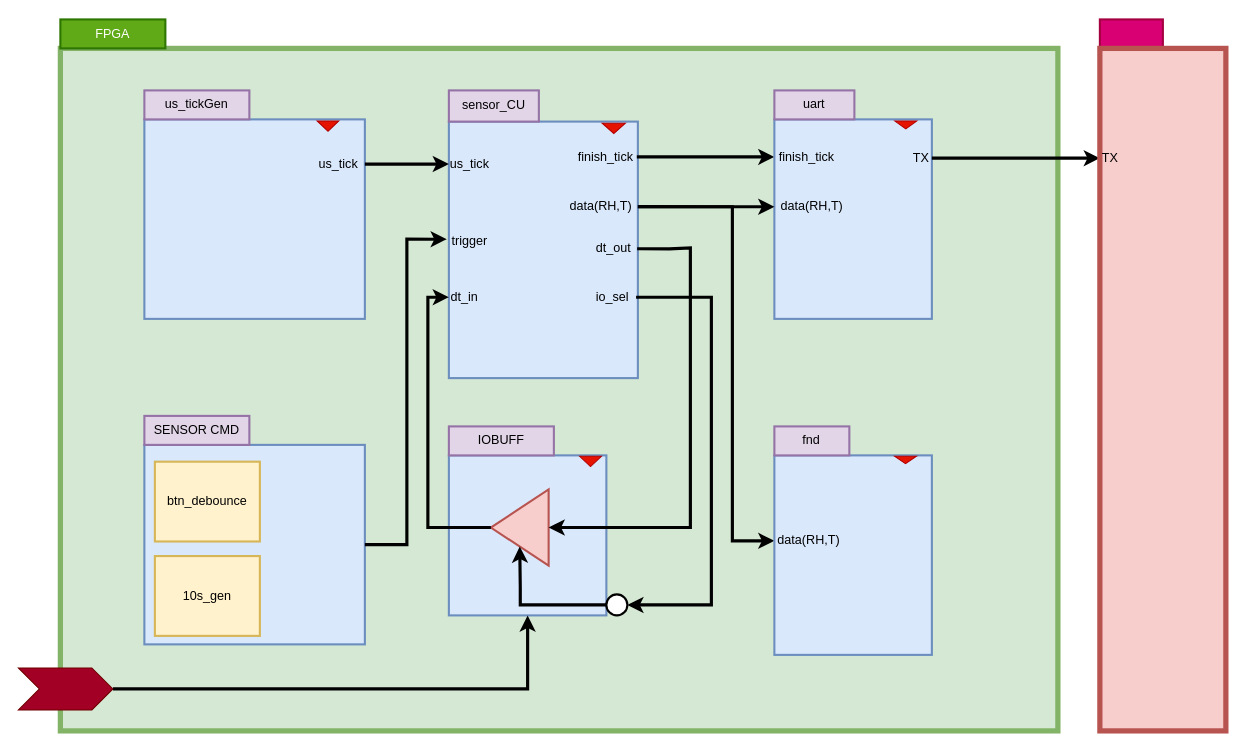
This 1246x752 diagram has some shape labels left out. Here are the shapes that lost their labels. From the top down, the centre of each, then its label:
At [1130,33]: "pc".
At [65,688]: "DHT11".
